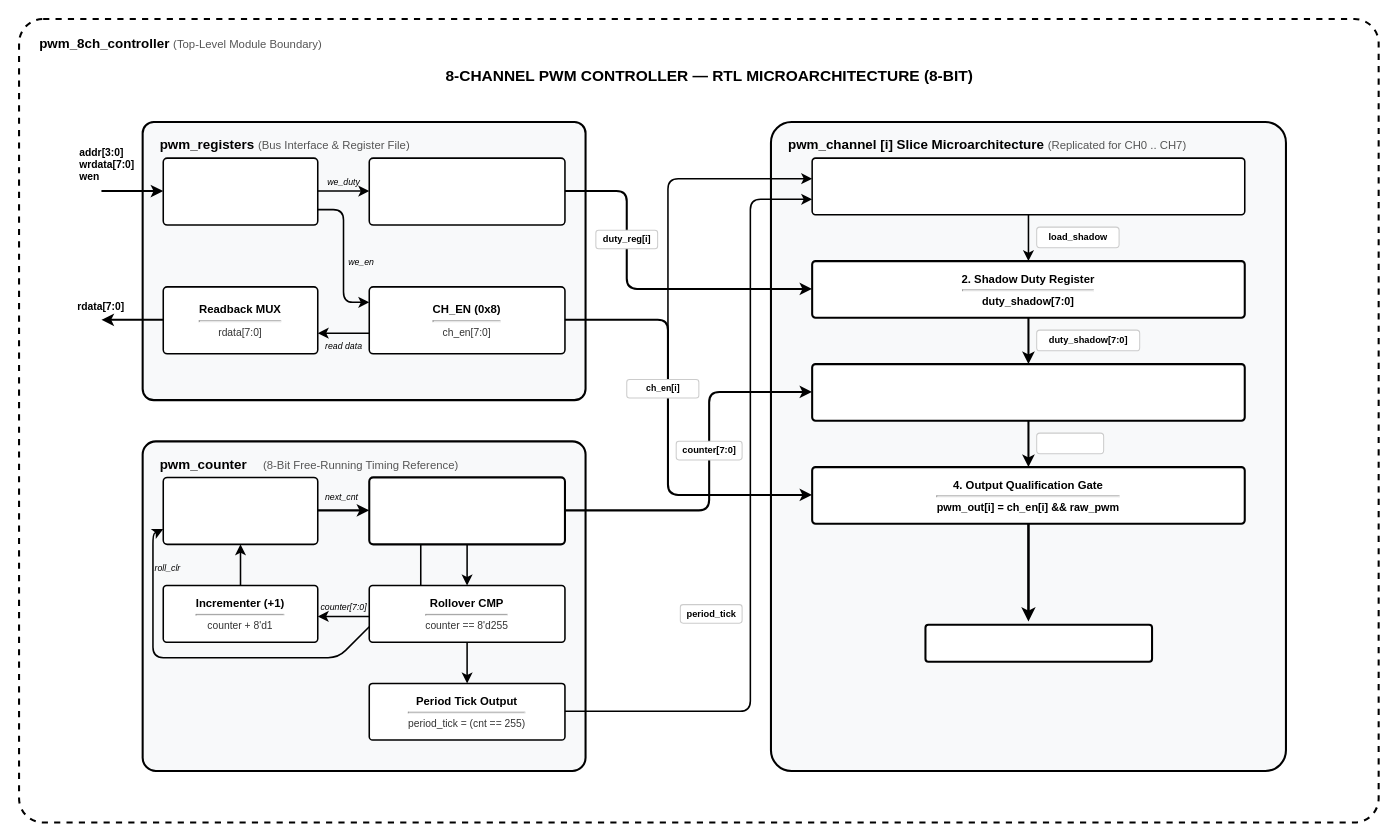
This 1397x840 diagram has some shape labels left out. Here are the shapes that lost their labels. From the top down, the centre of each, then its label:
(x=240, y=191): Address Decoder addr[3:0] & wen
(x=466, y=191): DUTY Registers duty_reg[0..7] (0x0..0x7)
(x=1028, y=186): 1. Shadow Latch Control load_shadow = (!ch_en[i]) || period_tick
(x=1028, y=392): 3. 8-Bit Magnitude Comparator raw_pwm = (counter[7:0] < duty_shadow[7:0])
(x=1070, y=443): raw_pwm
(x=240, y=510): Next-Count MUX 0: Rollover Clr | 1: +1
(x=466, y=510): Counter Register counter[7:0]
(x=1038, y=642): pwm_out[i]
